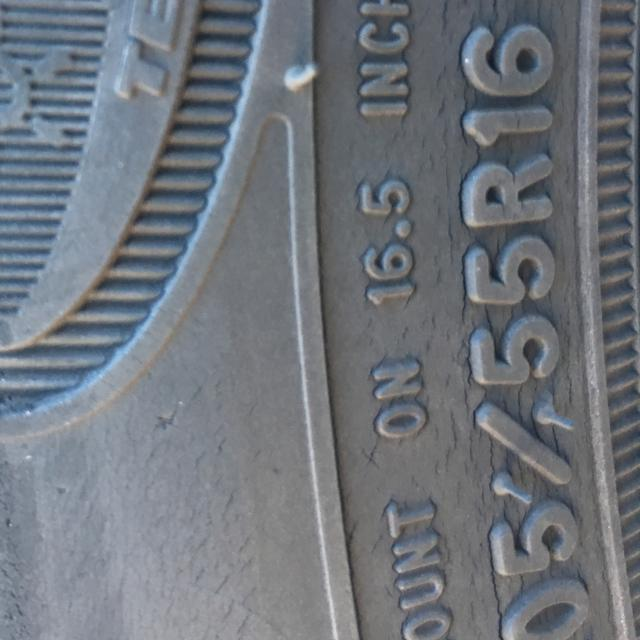Cracks: (348, 0, 636, 640), (0, 387, 274, 640)
Non-defective: (0, 0, 289, 369)
